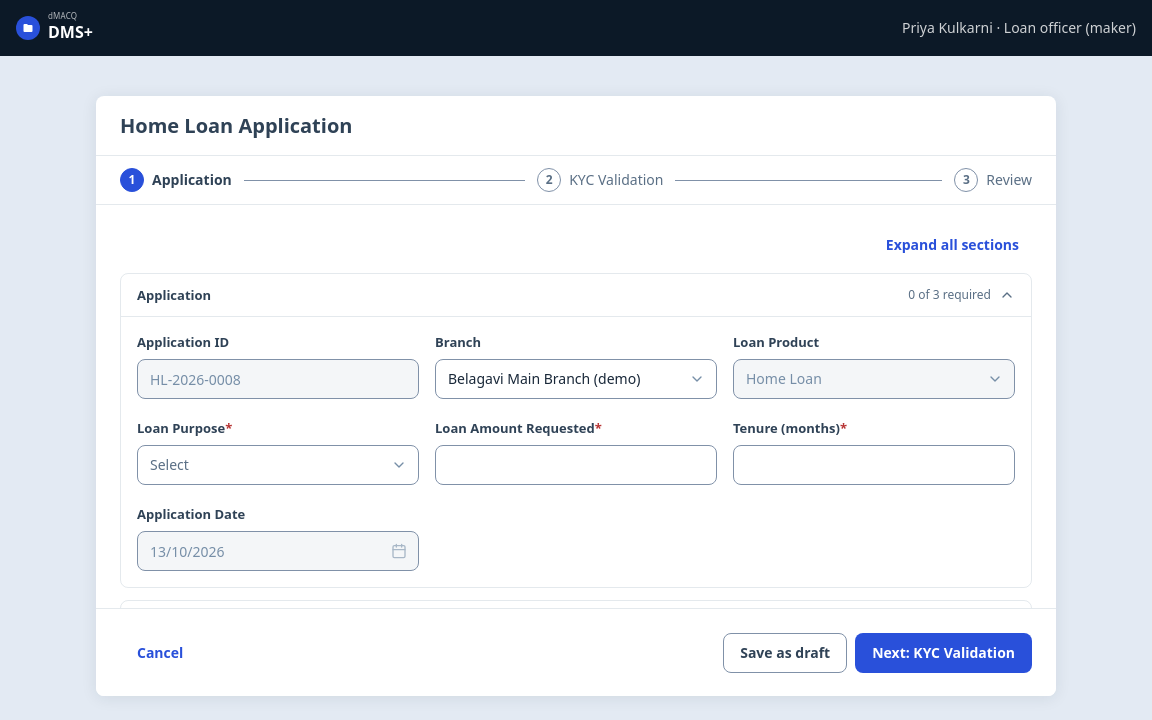
Step 1 sections are accordions › Expand all sections opens every section, and then offers Collapse all
Click the button "Expand all sections".
click(952, 245)  # box [873, 229, 1032, 261]
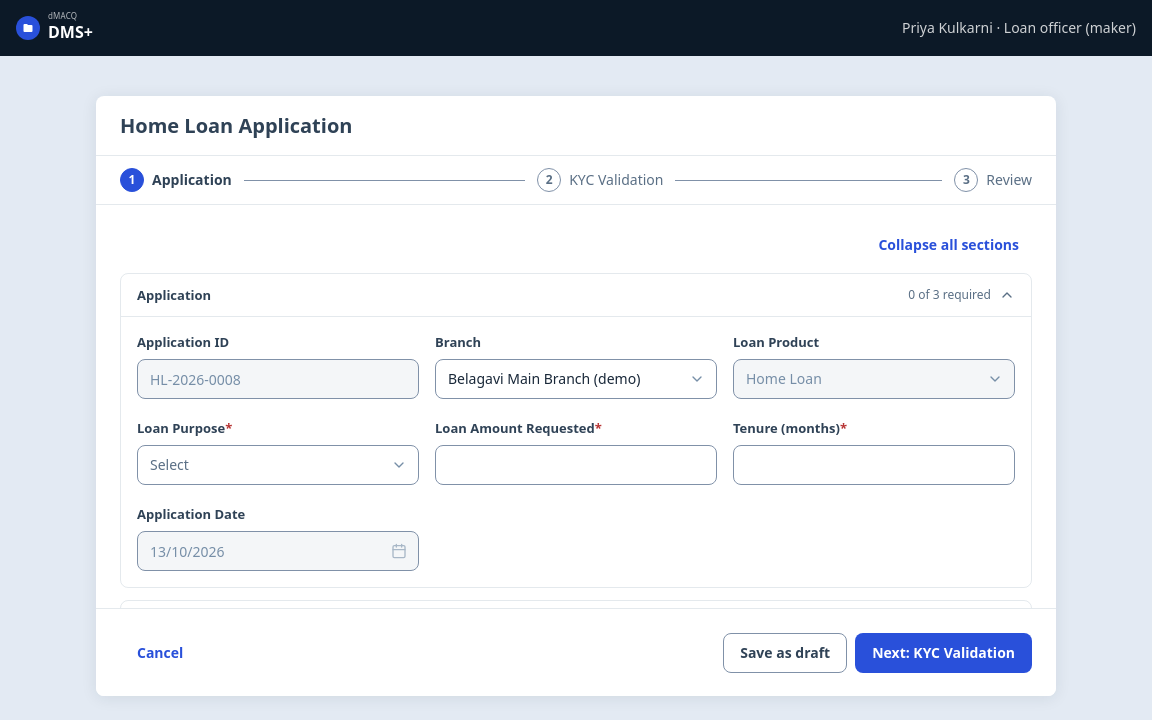
Click the button "Collapse all sections".
click(949, 245)  # box [866, 229, 1032, 261]
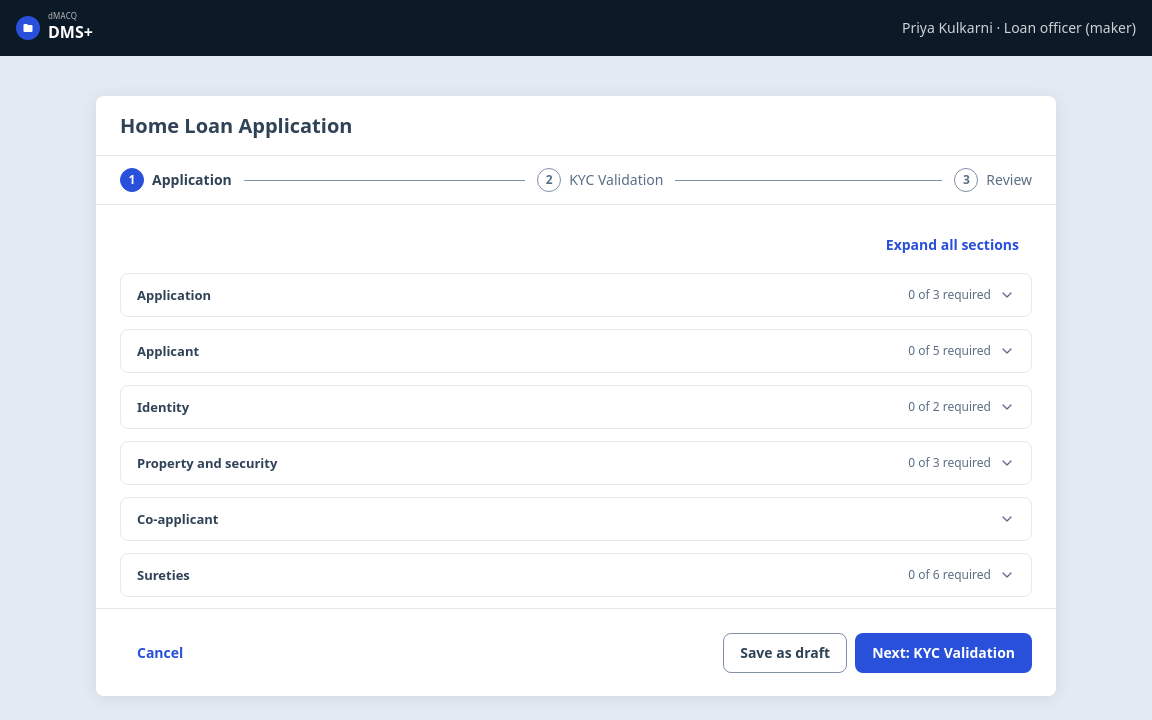
Now the button "Expand all sections" is shown, box [873, 229, 1032, 261]
